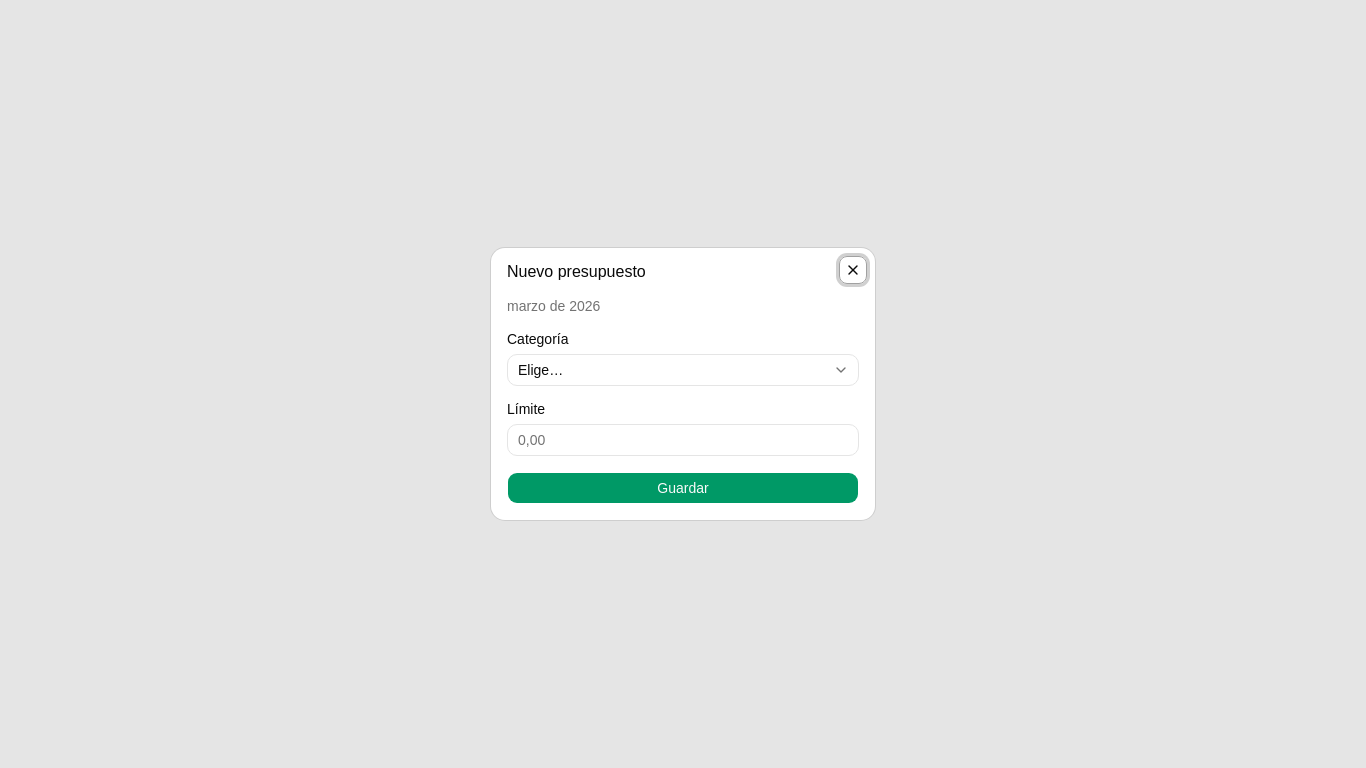
Test: BudgetDialog › rejects a zero limit
The width and height of the screenshot is (1366, 768).
Select "Alimentación" in the dropdown labelled "Categoría" at (683, 370), box [507,354,859,386]
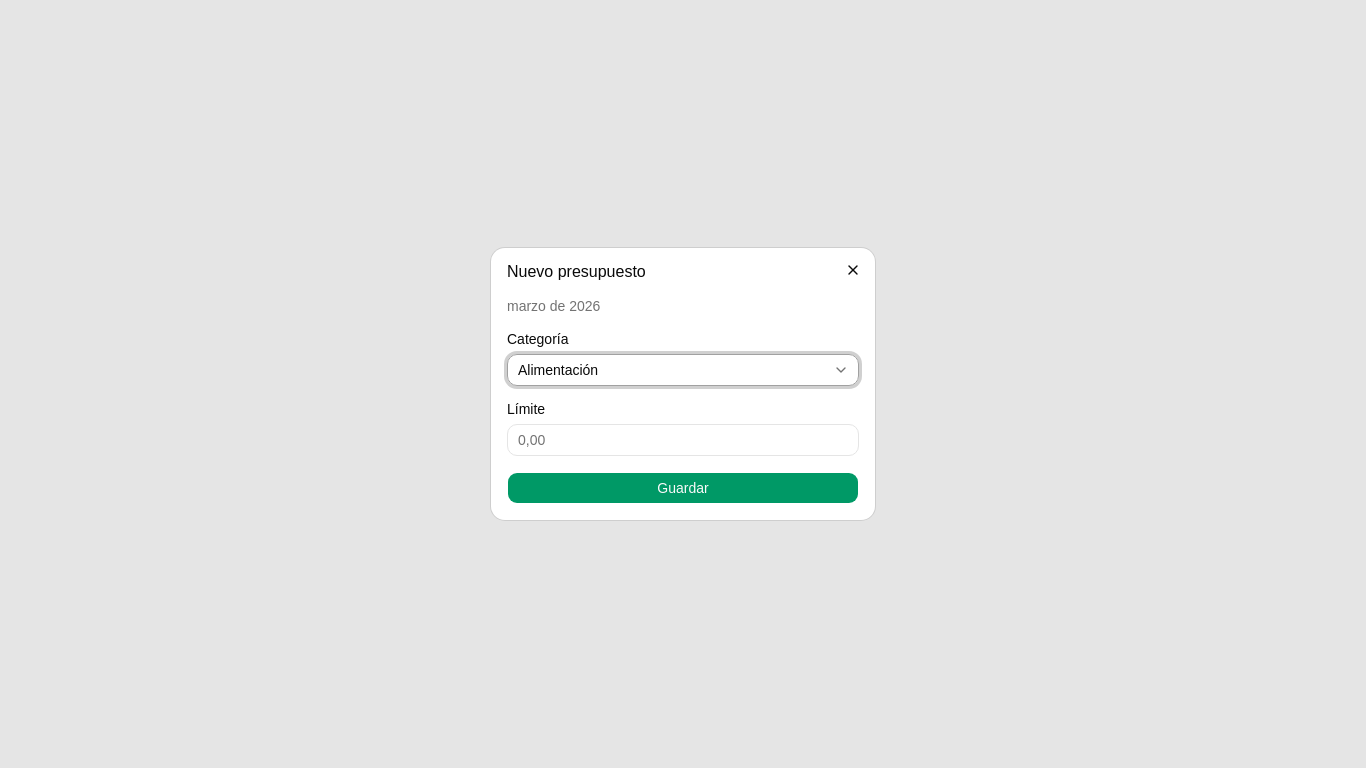
Type "0" into the field labelled "Límite".
click(683, 440); type("0")  # box [507,424,859,456]
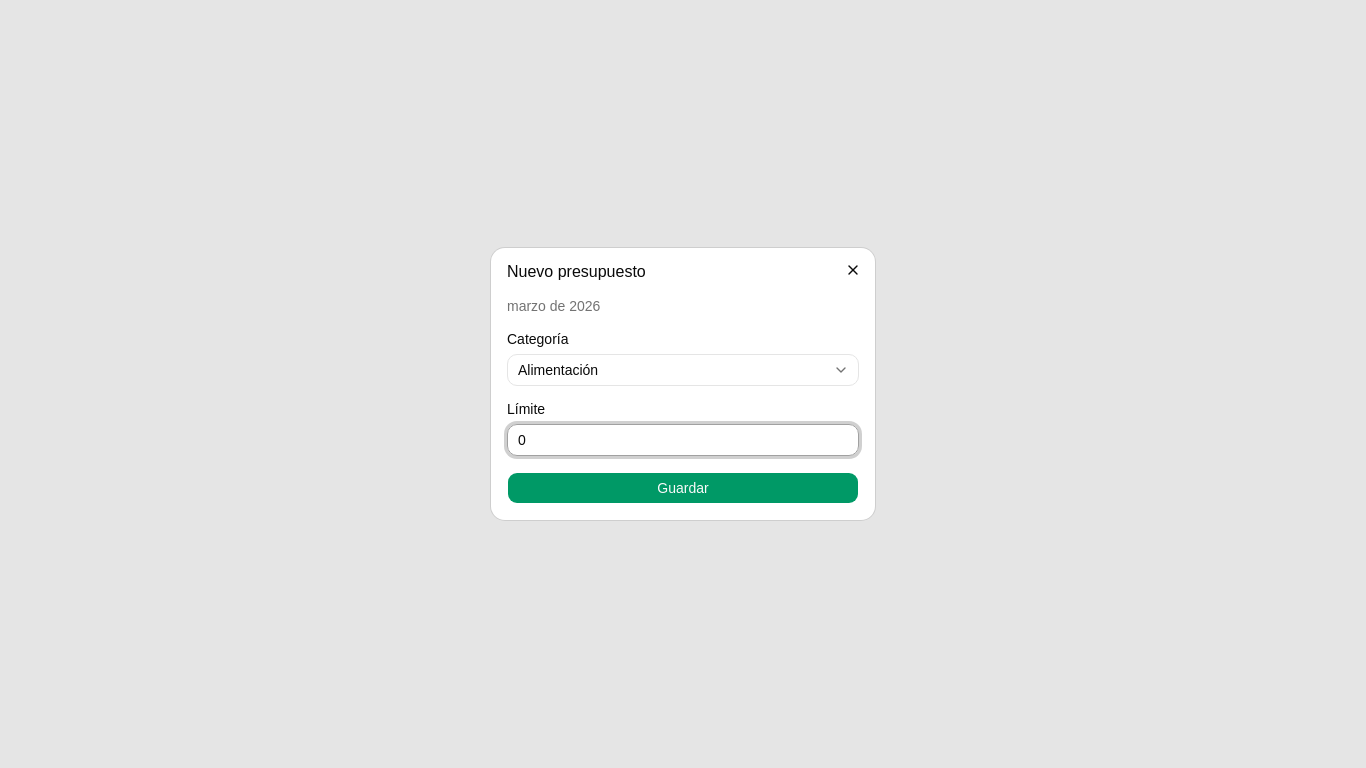
Click the button "Guardar".
click(683, 488)  # box [507,472,859,504]
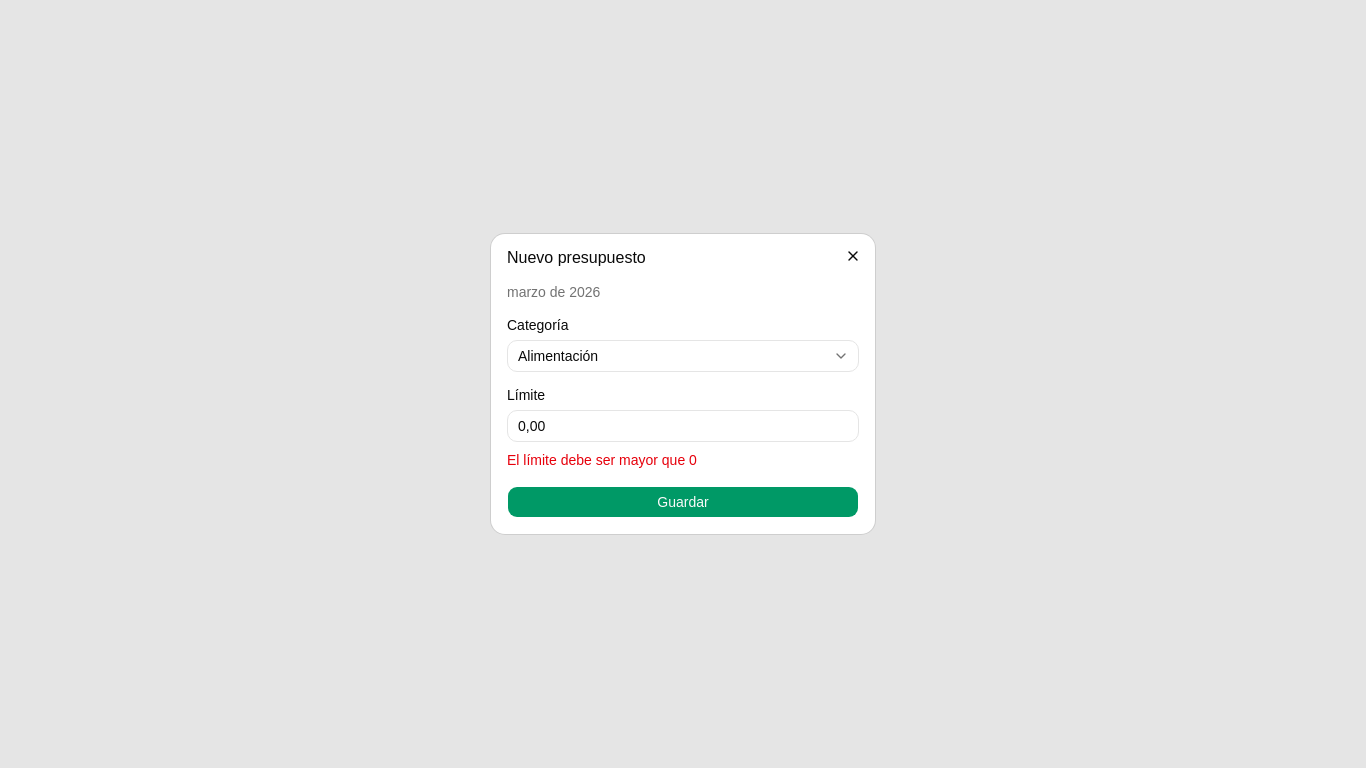
Expected: the text "El límite debe ser mayor que 0" is shown, [507,452,697,468]
